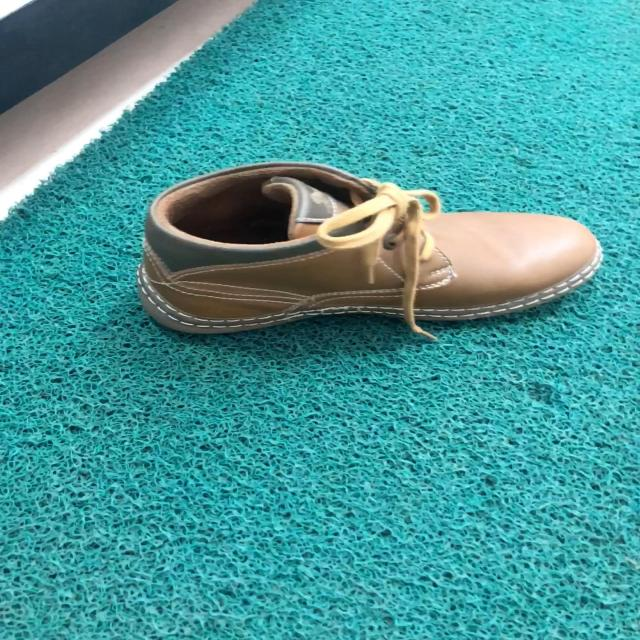shoe: (140, 162, 601, 328)
